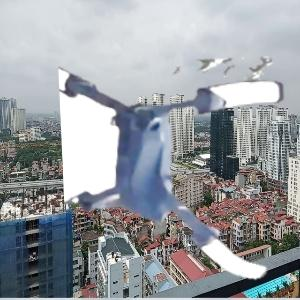drone: (64, 60, 300, 297)
